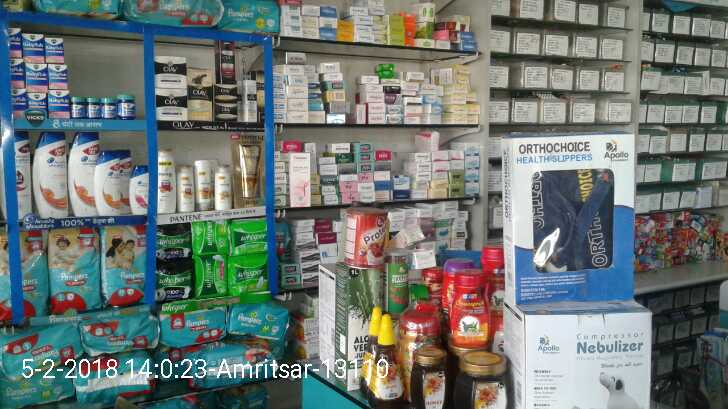vicks: (8, 25, 138, 119)
